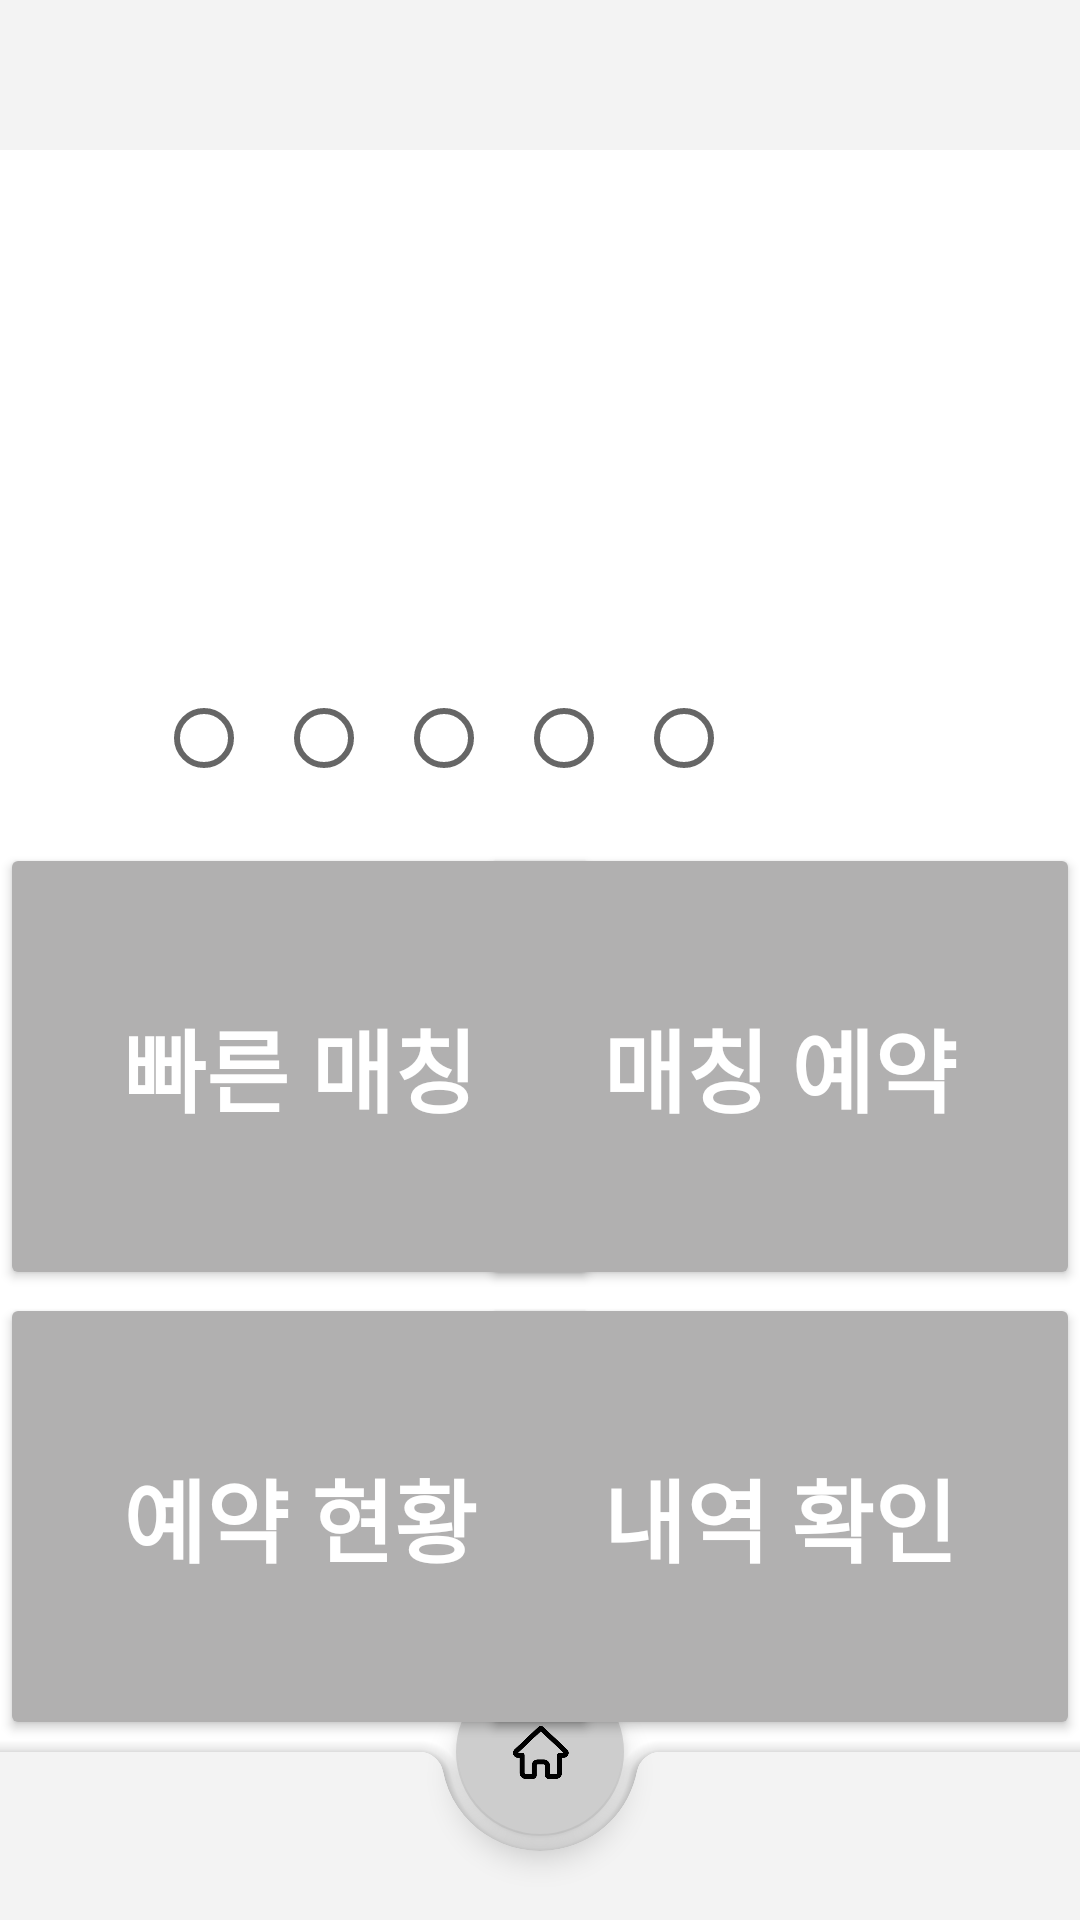

Point at icon controls on the screen. Image size 1080 x 1920, points as [x,y].
homebutton: [540,1752]
